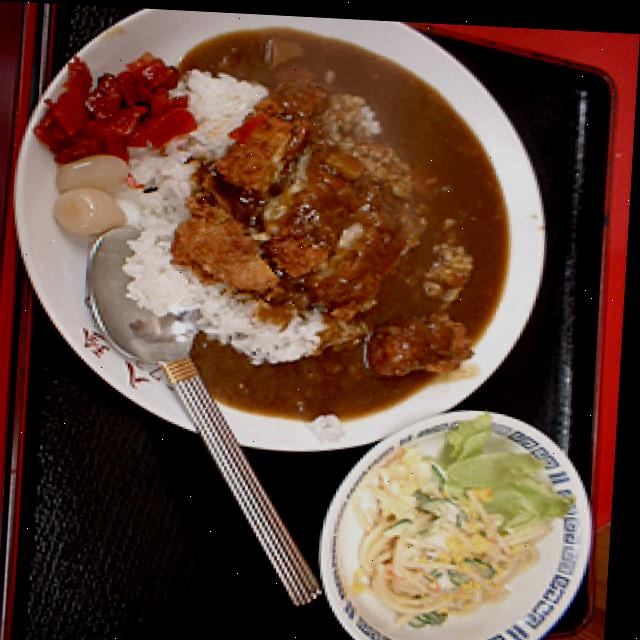猪肉菜式: (0, 1, 584, 470)
